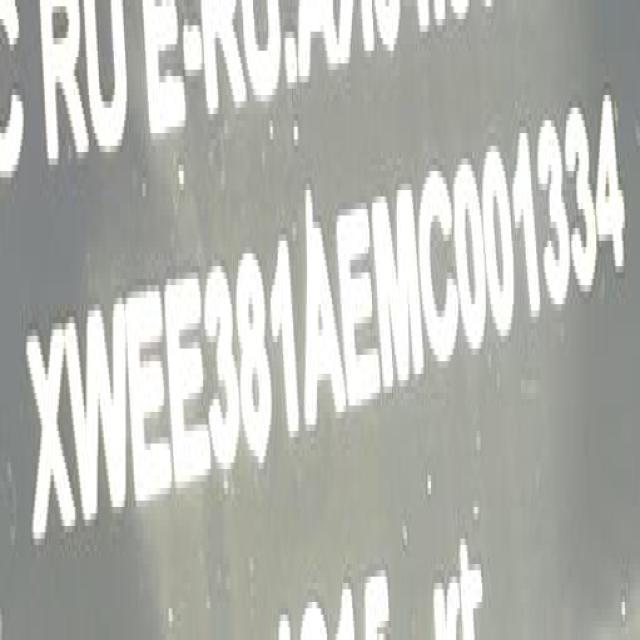0: (483, 138, 517, 344), (457, 152, 490, 355)
1: (272, 238, 304, 452), (514, 125, 540, 334)
3: (207, 263, 242, 485), (540, 109, 572, 315), (567, 97, 598, 304)
4: (595, 90, 630, 290)
8: (238, 251, 270, 465)
A: (303, 223, 344, 437)
C: (420, 170, 460, 377)
E: (132, 287, 174, 519), (170, 269, 211, 502), (343, 198, 381, 418)
M: (379, 182, 427, 400)
W: (71, 297, 134, 537)
X: (30, 322, 74, 554)
